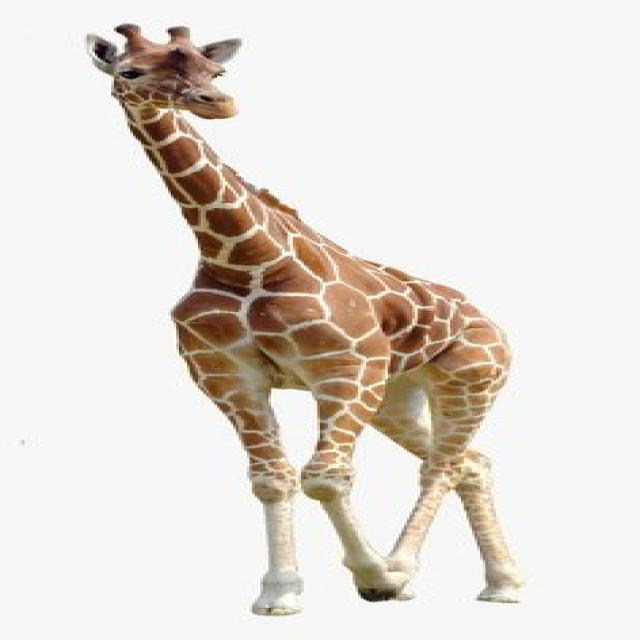Herbivorous: (87, 24, 526, 619)
